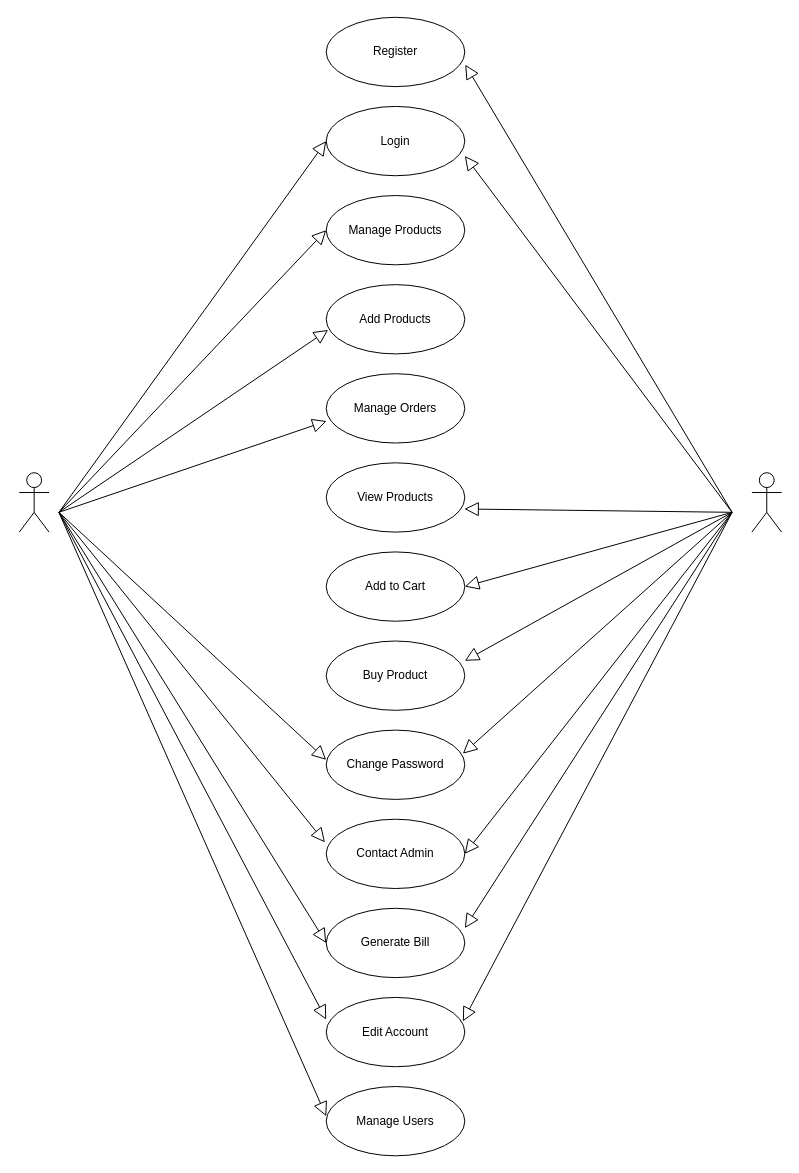
This 799x1173 diagram has some shape labels left out. The box of each missing label's shape, as (x1, y1, x2, y2) in pixels:
Admin: (18, 472, 49, 532)
User: (751, 472, 782, 532)
